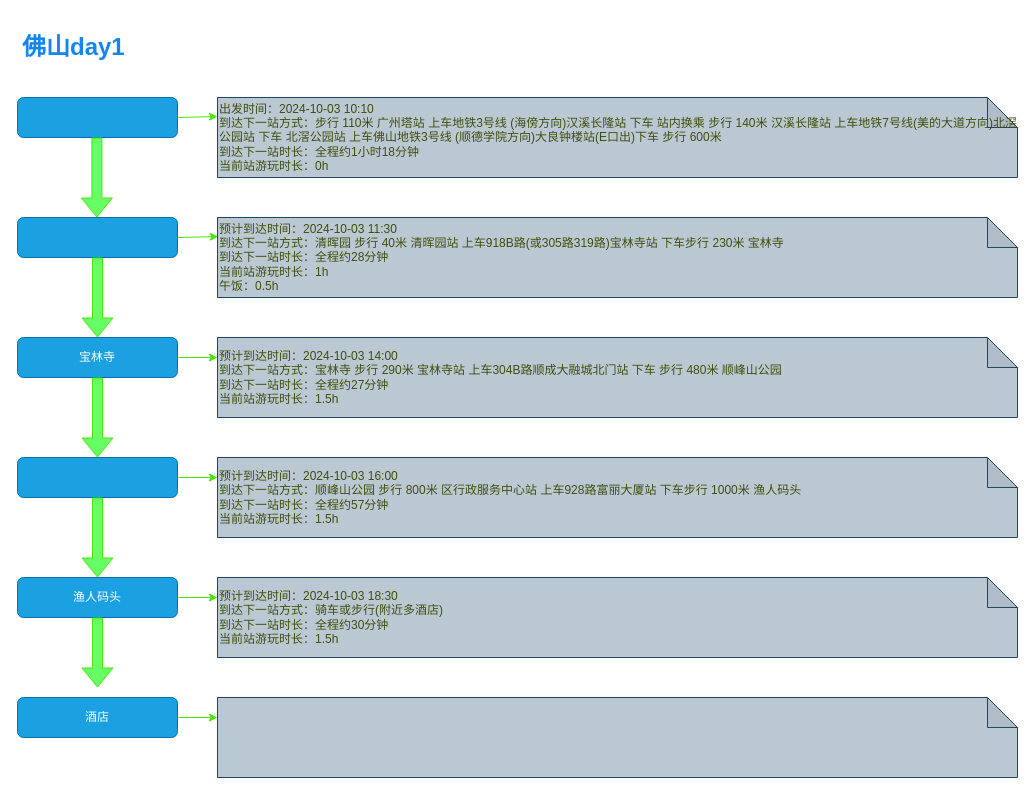
The diagram is 1035 pixels wide and 795 high, and some of its shapes have lost their labels. The box of each missing label's shape, as (x1, y1, x2, y2) in pixels:
广州塔: (16, 96, 178, 138)
清晖园: (16, 216, 178, 258)
顺峰山公园: (16, 456, 178, 498)
预计到达时间：2024-10-03 20:30 吃饭：1±0.5h 休息： 2024-10-02 21:30: (216, 696, 1018, 778)
